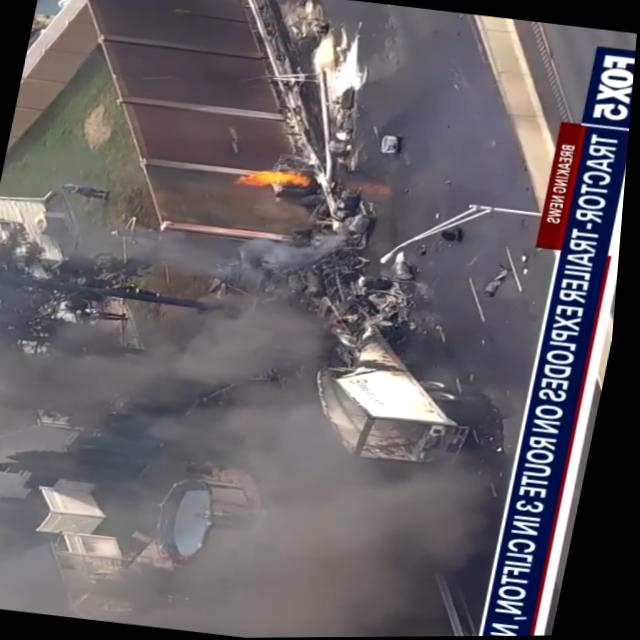fire: (232, 159, 320, 199)
